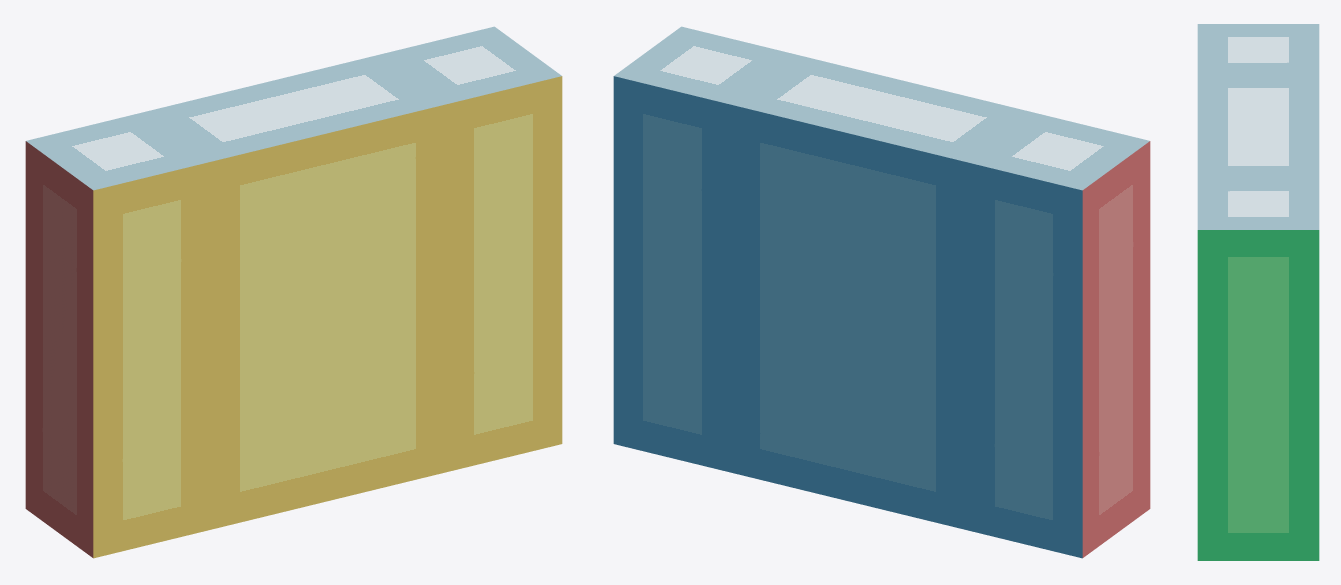
File: shirt.obj
3 views of the same model, side by side, from view 1: azimuth 30°, elevation 25°; view 2: azimuth 150°, elevation 25°; view 3: azimuth 270°, elevation 25° (orthographic). The views are drawn at different scales.
Parts seen in each view (by area): view 1: Body, Left Arm, Right Arm; view 2: Body, Left Arm, Right Arm; view 3: Right Arm, Body, Left Arm.
Part boxes in pixels (x1,y1,x2,y2): Body: (143,55,444,529); Left Arm: (25,112,210,558); Right Arm: (377,26,562,472); Body: (731,55,1032,529); Left Arm: (965,112,1150,558); Right Arm: (613,26,798,472); Right Arm: (1197,178,1319,560); Body: (1197,75,1319,178); Left Arm: (1197,24,1319,75).
Size of the model in its own units: 1.03 by 0.7812 by 0.2812.
1 material, 1 textured.
